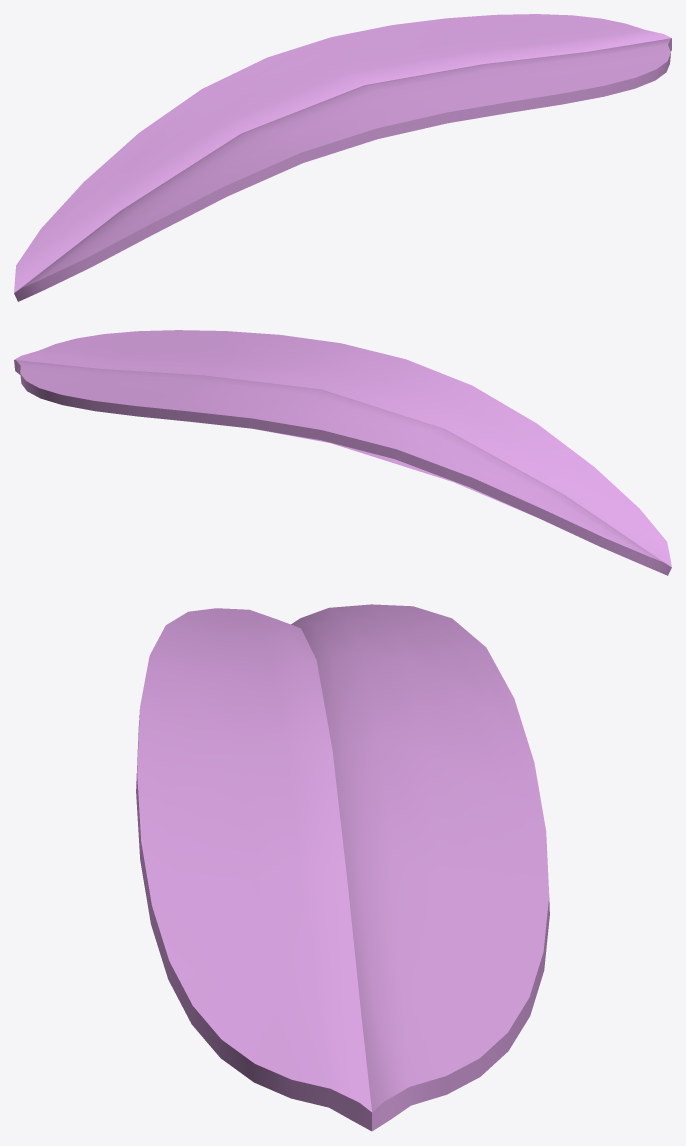
Rendered from ElderDaisyPetal.fbx.
3 renders of one model, top to bottom at view 1: azimuth 30°, elevation 25°; view 2: azimuth 150°, elevation 25°; view 3: azimuth 270°, elevation 25°, orthographic. The views are drawn at different scales.
Parts seen in each view (by area): view 1: ElderDaisyPetal; view 2: ElderDaisyPetal; view 3: ElderDaisyPetal.
Boxes of the visible parts, x1,y1,x2,y2 form: ElderDaisyPetal: (14, 14, 671, 301); ElderDaisyPetal: (14, 330, 671, 575); ElderDaisyPetal: (136, 604, 549, 1131).
Bounding box in the file's own units: 399 × 70.02 × 112.
